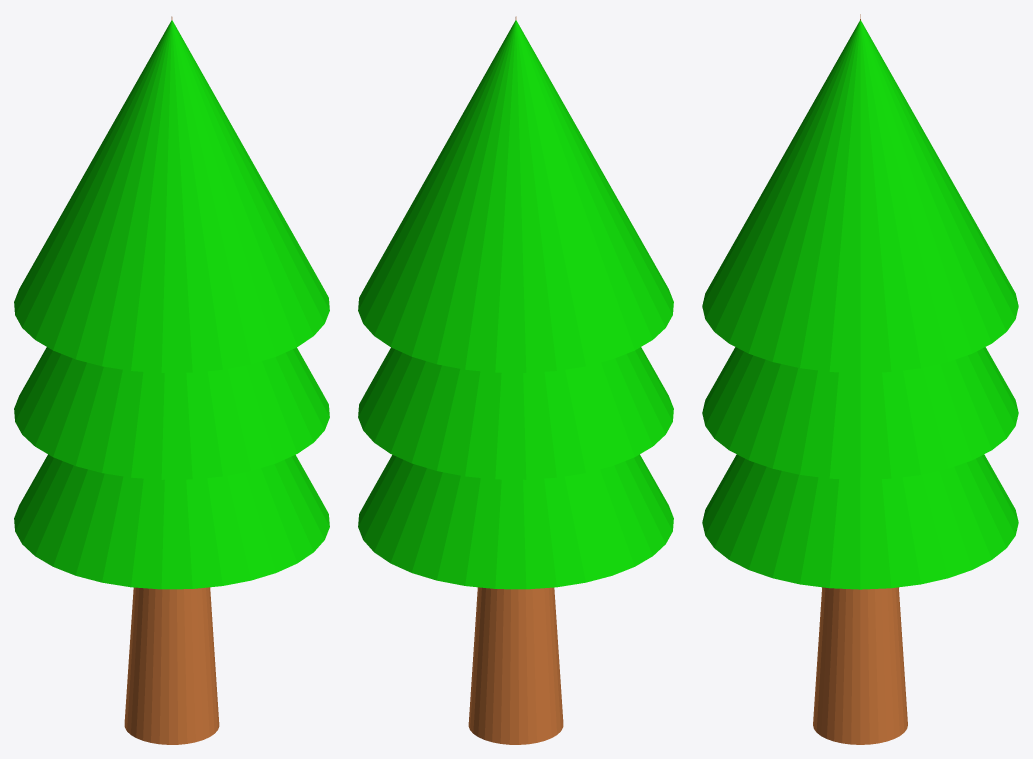
File: arvore.fbx
3 renders of one model, left to right at view 1: azimuth 30°, elevation 25°; view 2: azimuth 150°, elevation 25°; view 3: azimuth 270°, elevation 25°, orthographic.
Visible parts, largest first — view 1: Cone, Cylinder; view 2: Cone, Cylinder; view 3: Cone, Cylinder.
Part boxes in pixels (x1,y1,x2,y2): Cone: [14, 20, 329, 589]; Cylinder: [124, 16, 219, 744]; Cone: [358, 20, 673, 589]; Cylinder: [468, 16, 563, 744]; Cone: [702, 20, 1018, 589]; Cylinder: [813, 14, 907, 744].
Bounding box in the file's own units: 200 × 496 × 200.
